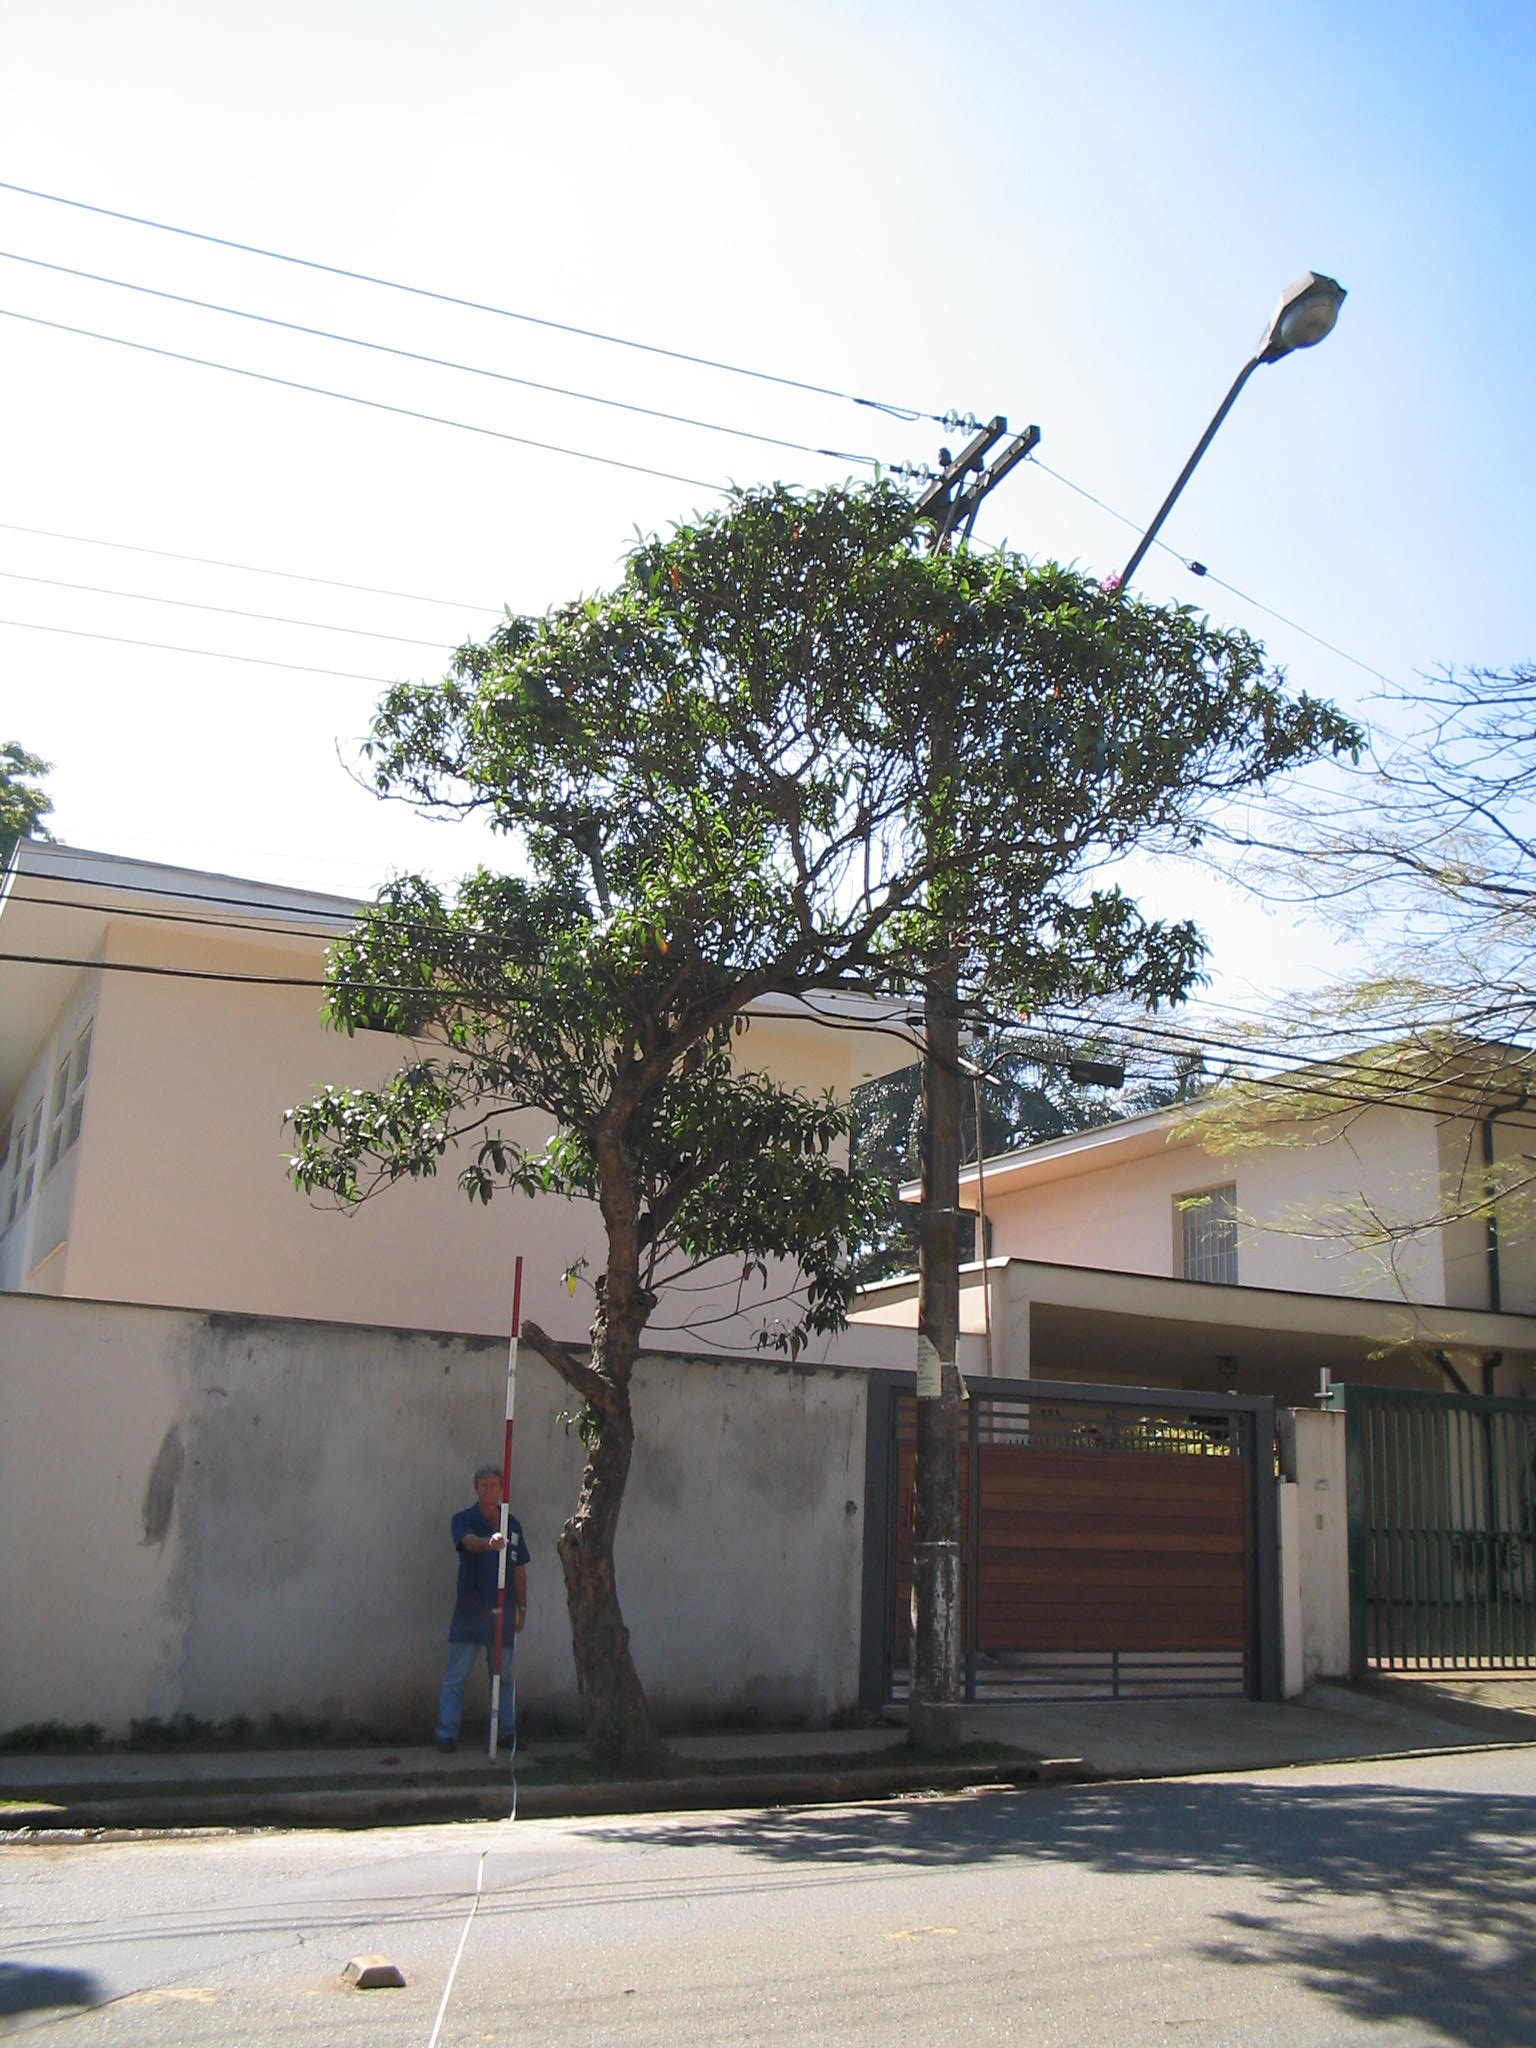crown: (282, 479, 1367, 1361)
stem: (528, 1390, 699, 1771)
stick: (466, 1253, 539, 1756)
tree: (274, 471, 1375, 1774)
